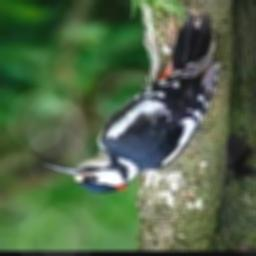Woodpecker: (44, 14, 222, 193)
